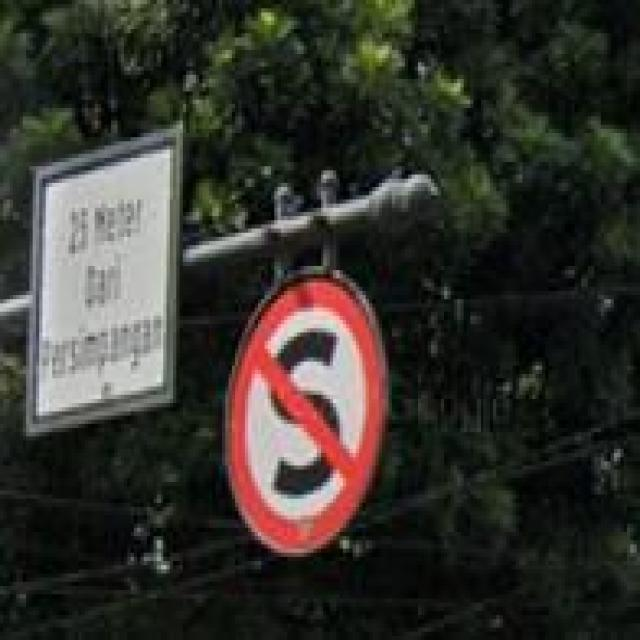traffic sign: (229, 274, 386, 552)
